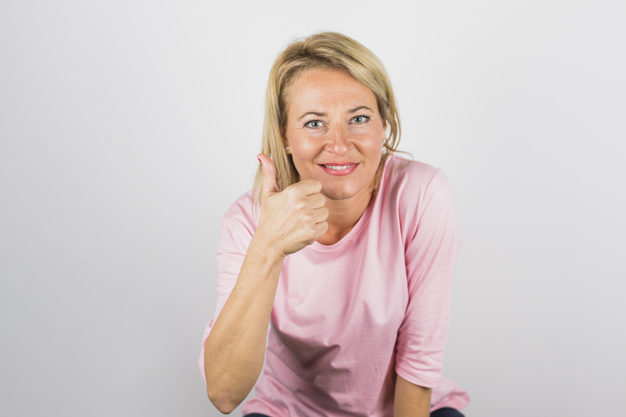thumbsup: (257, 153, 329, 238)
